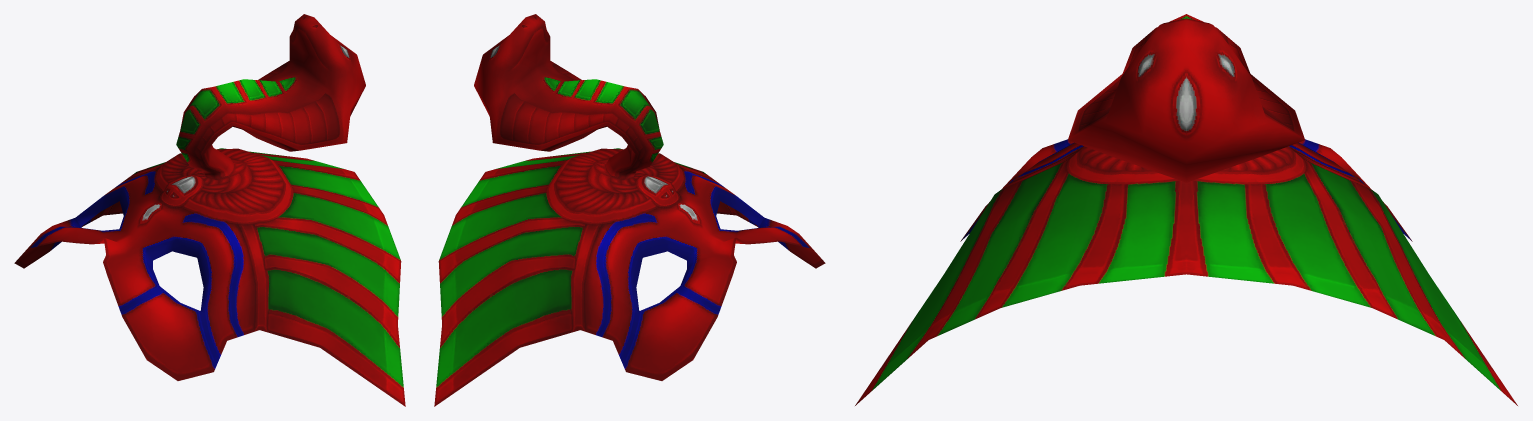
3 renders of one model, left to right at view 1: azimuth 30°, elevation 25°; view 2: azimuth 150°, elevation 25°; view 3: azimuth 270°, elevation 25°, orthographic. The views are drawn at different scales.
Visible parts, largest first — view 1: L1291; view 2: L1291; view 3: L1291.
Part boxes in pixels (box(x1,y1,x2,y2)): L1291: box(14, 14, 405, 406); L1291: box(434, 14, 825, 406); L1291: box(855, 14, 1517, 405).
Size of the model in its own units: 0.3337 by 0.3363 by 0.4987.
